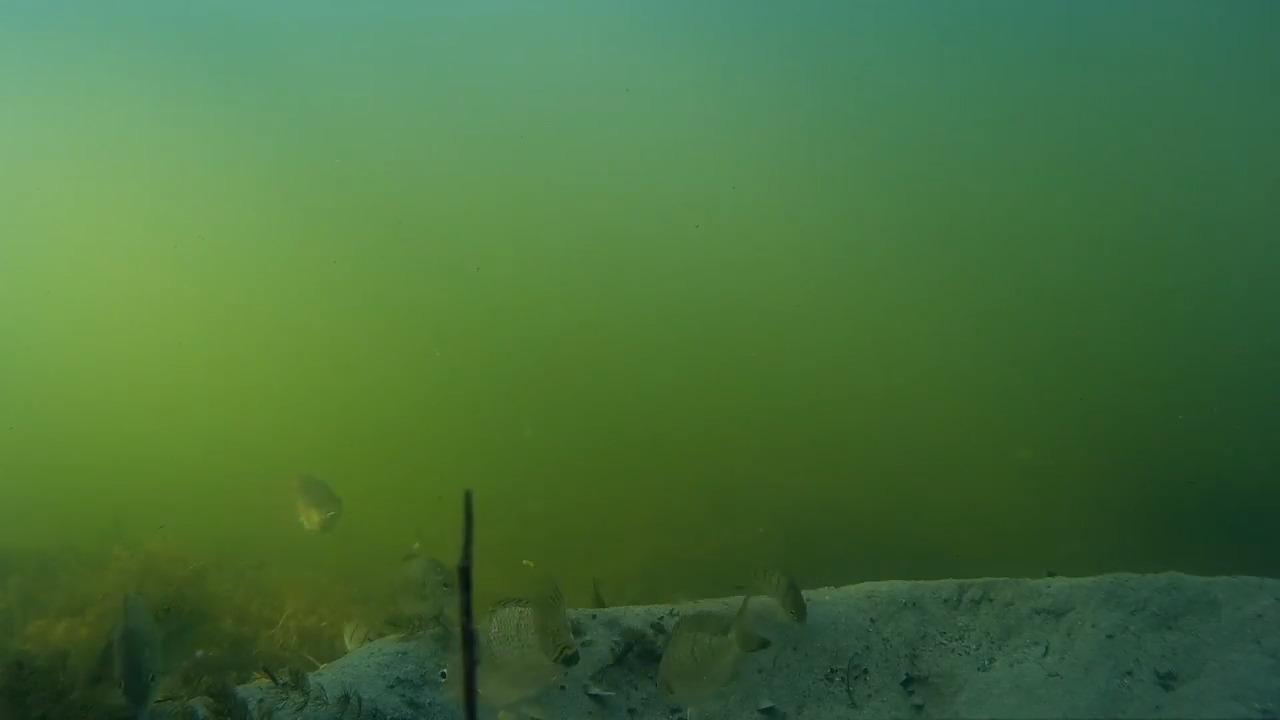Tilapia: (420, 592, 565, 720), (634, 610, 781, 718), (87, 596, 181, 714), (274, 464, 367, 560), (745, 570, 820, 634)
